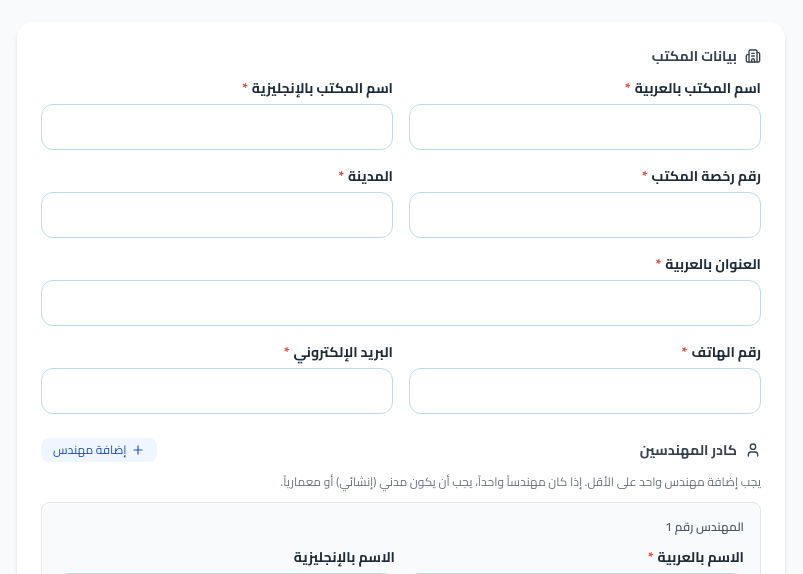
Test: RegisterOfficePage › add engineer button appends a new row; remove takes it away again
Click the button with test id "add-engineer-btn" at (99, 450), box 41,438 -> 157,462
(page scrolled)
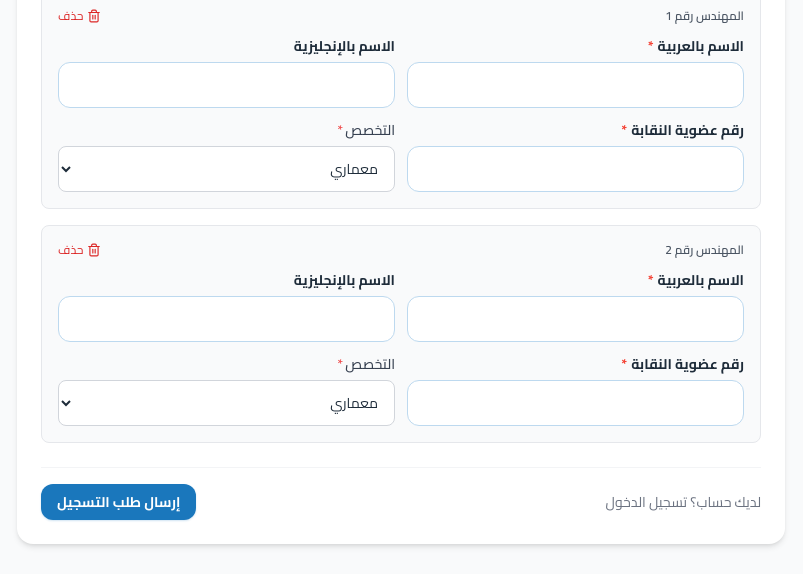
Expected: the element with test id "engineer-row-1" is shown, 41,225 -> 761,443
Click the button with test id "remove-engineer-1" at (80, 250), box 58,242 -> 102,258
(page scrolled)
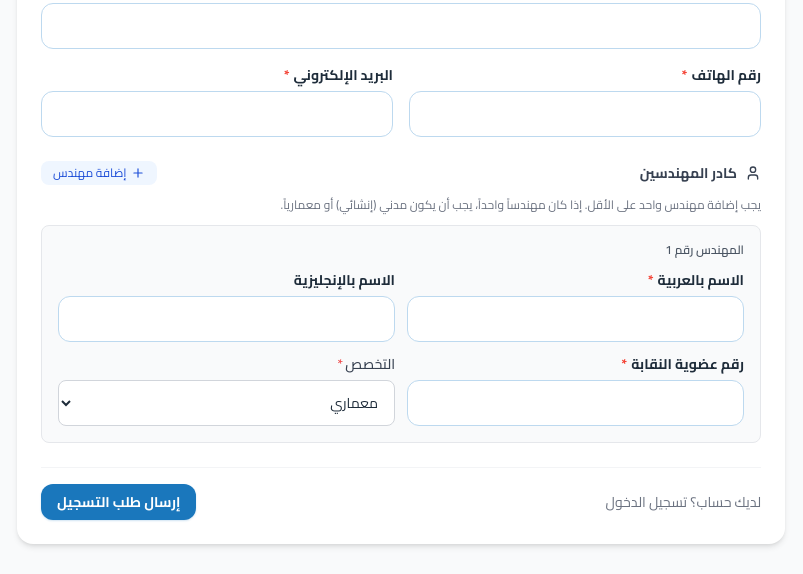
Expected: the element with test id "engineer-row-1" is gone
